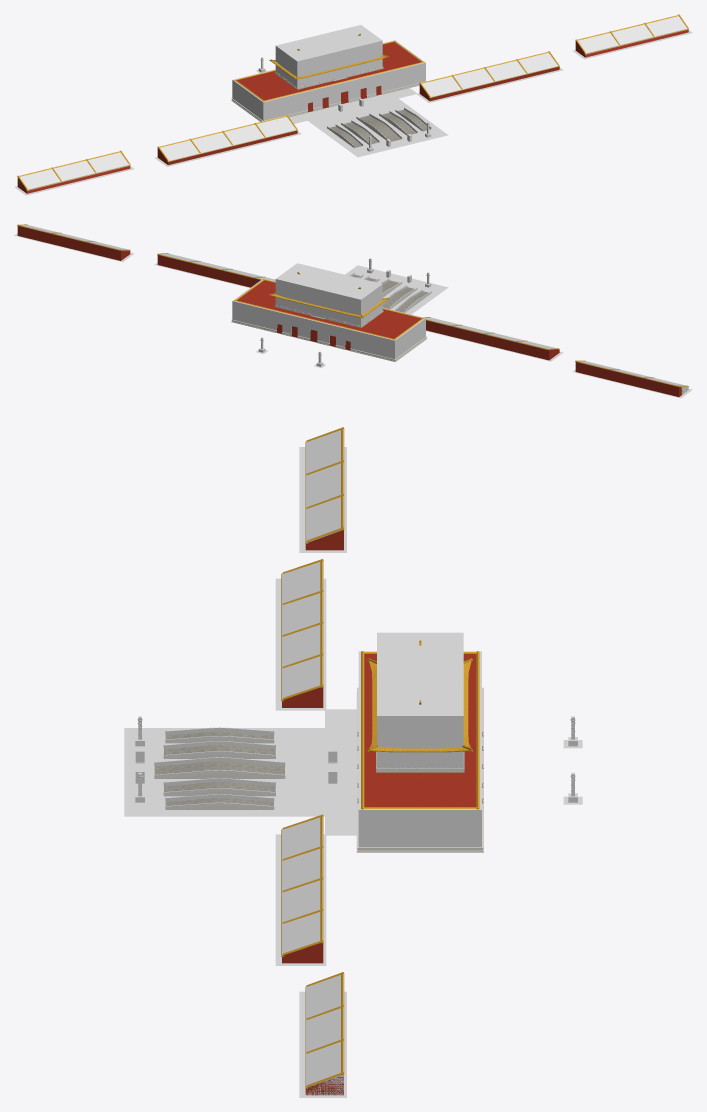
File: tiananmen.glb
3 views of the same model, one above another, from view 1: azimuth 30°, elevation 25°; view 2: azimuth 150°, elevation 25°; view 3: azimuth 270°, elevation 25° (orthographic). The views are drawn at different scales.
Visible parts, largest first — view 1: COL_tower, Front, Massing, CLEAR_bridges, COL_stand0, COL_stand1, COL_stand2, COL_stand3, COL_pier0, Platform, COL_pier5, FOOTPRINT_forecourt (+2 smaller); view 2: Front, COL_tower, Massing, COL_pier0, CLEAR_bridges, Platform, COL_pier5, COL_stand0, COL_stand1, COL_stand2, COL_stand3, Roofs; view 3: COL_tower, Front, CLEAR_bridges, Massing, COL_pier5, COL_stand0, COL_stand1, COL_stand3, COL_stand2, Platform, FOOTPRINT_forecourt, CLEAR_stand0 (+4 smaller).
Boxes of the visible parts, x1,y1,x2,y2 form: COL_tower: (275,25,382,87); Front: (17,14,688,193); Massing: (17,41,585,193); CLEAR_bridges: (301,93,448,157); COL_stand0: (159,115,297,161); COL_stand1: (421,51,559,97); COL_stand2: (17,151,130,189); COL_stand3: (577,15,688,53); COL_pier0: (232,69,307,120); Platform: (231,40,426,121); COL_pier5: (381,40,425,91); FOOTPRINT_forecourt: (289,88,417,123); Front: (17,224,688,396); COL_tower: (275,263,382,325); Massing: (121,250,682,396); COL_pier0: (350,307,425,359); CLEAR_bridges: (345,265,448,314); Platform: (231,279,427,361); COL_pier5: (232,278,277,330); COL_stand0: (426,317,556,349); COL_stand1: (159,253,275,281); COL_stand2: (577,361,688,394); COL_stand3: (18,225,129,250); Roofs: (269,272,388,318); COL_tower: (377,632,463,768); Front: (135,427,576,1088); CLEAR_bridges: (124,728,353,816); Massing: (305,530,476,1095); COL_pier5: (358,766,481,847); COL_stand0: (282,561,323,699); COL_stand1: (282,816,323,955); COL_stand3: (305,974,343,1095); COL_stand2: (305,429,343,542); Platform: (357,651,483,852); FOOTPRINT_forecourt: (325,709,356,835); CLEAR_stand0: (275,578,326,710).
Bounding box in the file's own units: 484 × 35.35 × 144.
Materials: 11 (4 with a texture image).
